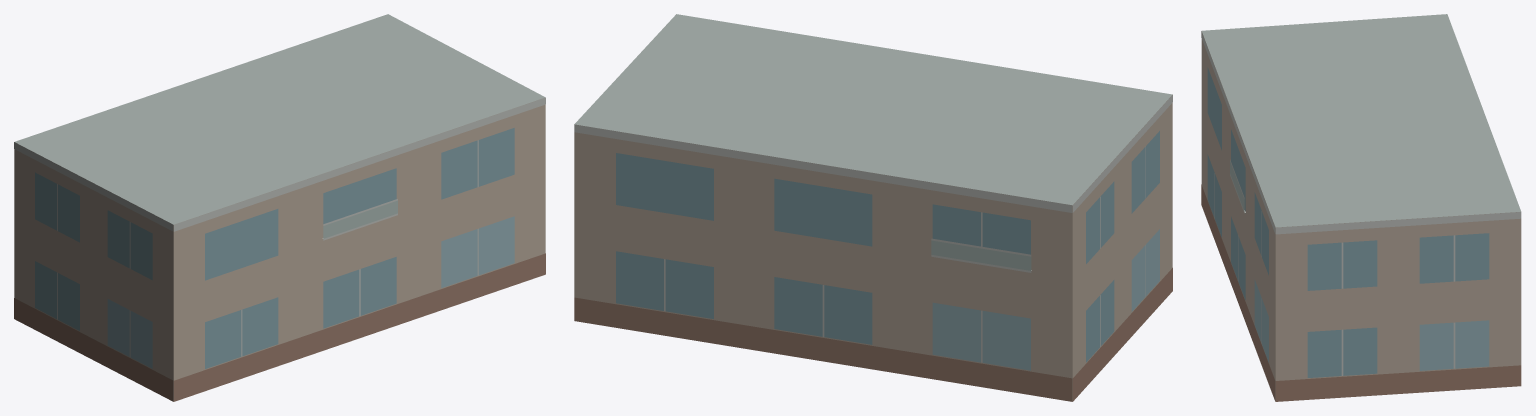
The model's file is survey-upis-32576742.glb.
The picture shows the model from 3 angles, left to right: view 1: azimuth 30°, elevation 25°; view 2: azimuth 150°, elevation 25°; view 3: azimuth 270°, elevation 25°; orthographic projection. The views are drawn at different scales.
Visible parts, largest first — view 1: survey-upis-32576742.tmp; view 2: survey-upis-32576742.tmp; view 3: survey-upis-32576742.tmp.
Part boxes in pixels (x1,y1,x2,y2): survey-upis-32576742.tmp: [14, 14, 545, 401]; survey-upis-32576742.tmp: [574, 14, 1172, 401]; survey-upis-32576742.tmp: [1201, 14, 1521, 401].
Size of the model in its own units: 16.03 by 6.1 by 10.15.
